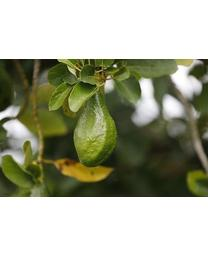avocado: (72, 87, 117, 166)
